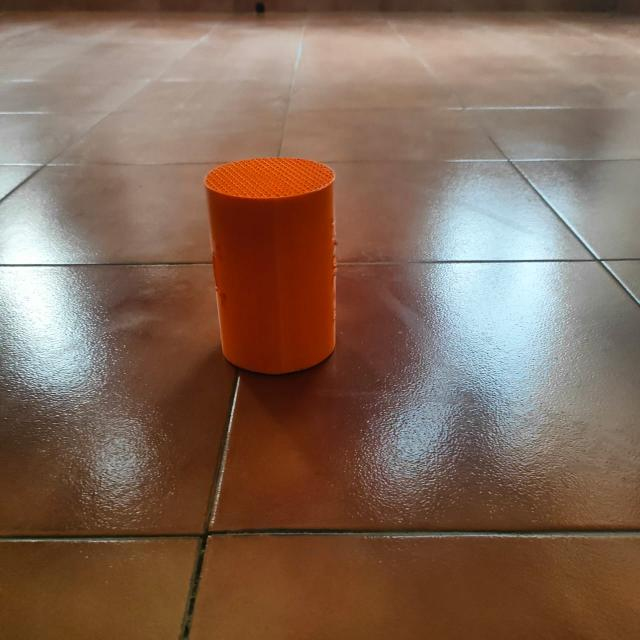Cylinder: (203, 155, 337, 375)
